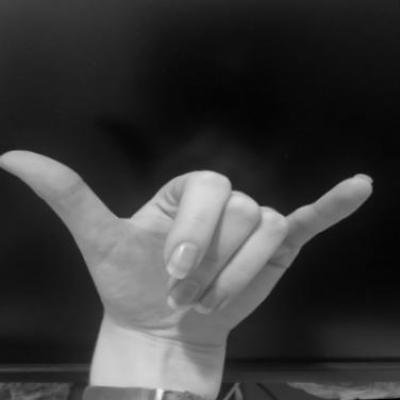hand: (0, 126, 385, 344)
